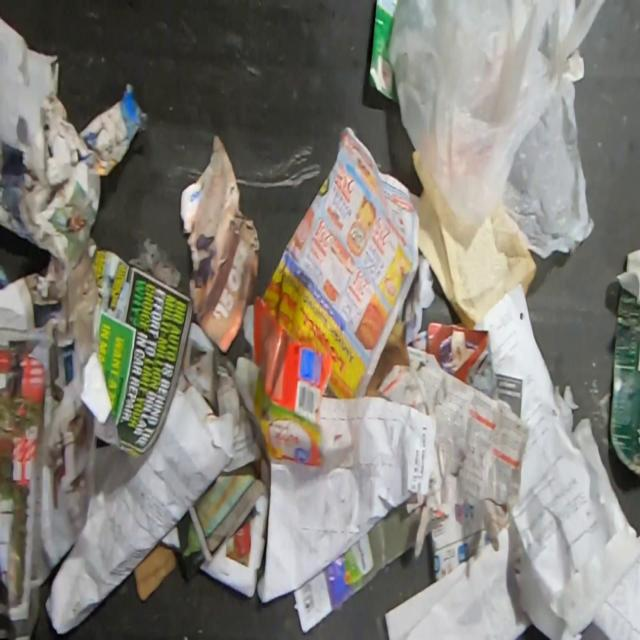cardboard: (608, 245, 640, 474), (132, 541, 178, 599)
soft_plastic: (388, 0, 606, 258)
